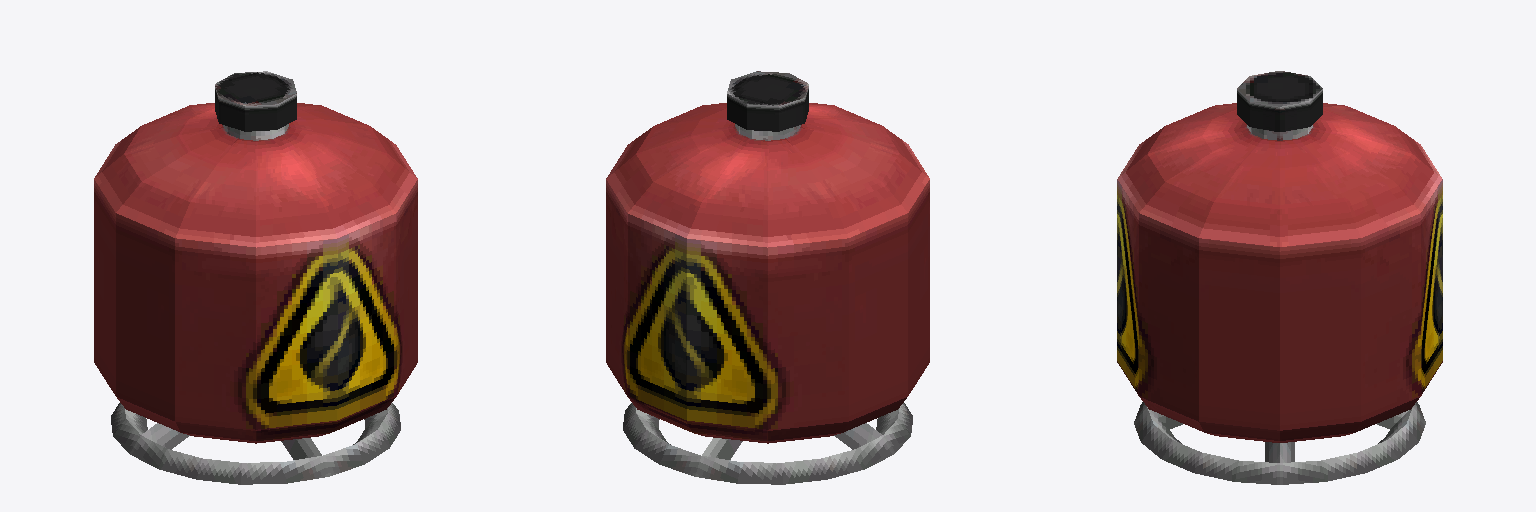
3 views of the same model, side by side, from view 1: azimuth 30°, elevation 25°; view 2: azimuth 150°, elevation 25°; view 3: azimuth 270°, elevation 25° (orthographic).
Parts seen in each view (by area): view 1: default; view 2: default; view 3: default.
Part boxes in pixels (left/top/right/bottom): default: left=94, top=71, right=417, bottom=484; default: left=606, top=71, right=929, bottom=484; default: left=1117, top=71, right=1442, bottom=484.
Size of the model in its own units: 21.04 by 24 by 21.15.
Materials: 1 (1 with a texture image).